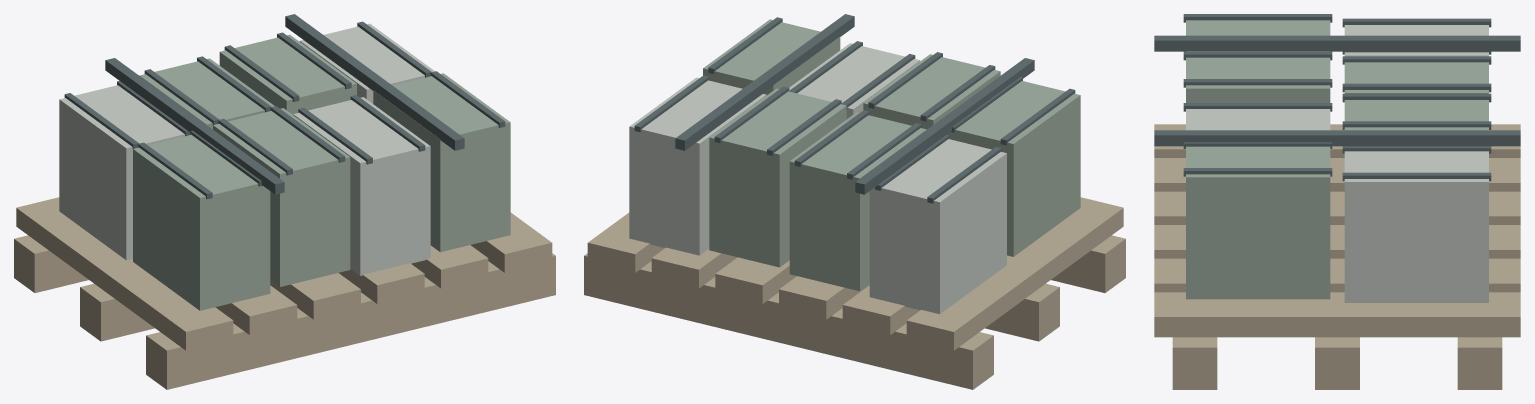
Rendered from DF210_Pallet_BundledCargo.glb.
The picture shows the model from 3 angles, left to right: view 1: azimuth 30°, elevation 25°; view 2: azimuth 150°, elevation 25°; view 3: azimuth 270°, elevation 25°; orthographic projection. The views are drawn at different scales.
Parts seen in each view (by area): view 1: Bale_4, Runner_0.7, Bale_5, Bale_6, Bale_7, Bale_0, TopDeck_0, Bale_2, Bale_1, TopTension_0.55, TopTension_-0.55, Bale_3 (+19 smaller); view 2: Bale_0, Runner_-0.7, Bale_2, Bale_1, Bale_4, Bale_3, TopDeck_0, Bale_5, Bale_7, Bale_6, TopTension_0.55, TopTension_-0.55 (+20 smaller); view 3: Bale_7, Bale_3, TopDeck_5, TopTension_-0.55, Bale_5, TopTension_0.55, Bale_1, Bale_2, Bale_6, TopDeck_4, TopDeck_2, TopDeck_3 (+20 smaller).
Boxes of the visible parts, box(x1,y1,x2,y2) form: Bale_4: box(133, 134, 270, 310); Runner_0.7: box(146, 253, 555, 389); Bale_5: box(213, 108, 350, 286); Bale_6: box(293, 97, 430, 275); Bale_7: box(373, 73, 510, 252); Bale_0: box(59, 85, 184, 260); TopDeck_0: box(16, 197, 233, 350); Bale_2: box(219, 34, 356, 114); Bale_1: box(139, 58, 274, 129); TopTension_0.55: box(285, 14, 464, 150); TopTension_-0.55: box(105, 58, 284, 194); Bale_3: box(299, 23, 434, 103); Bale_0: box(869, 139, 1006, 314); Runner_-0.7: box(584, 253, 993, 389); Bale_2: box(709, 88, 846, 267); Bale_1: box(789, 112, 926, 291); Bale_4: box(947, 81, 1080, 256); Bale_3: box(629, 77, 766, 255); TopDeck_0: box(906, 197, 1123, 350); Bale_5: box(863, 54, 1000, 129); Bale_7: box(703, 19, 840, 95); Bale_6: box(789, 43, 920, 118); TopTension_0.55: box(675, 14, 854, 150); TopTension_-0.55: box(855, 58, 1034, 194); Bale_7: box(1186, 146, 1330, 299); Bale_3: box(1344, 151, 1488, 302); TopDeck_5: box(1154, 292, 1520, 337); TopTension_-0.55: box(1154, 35, 1520, 51); Bale_5: box(1186, 57, 1330, 102); TopTension_0.55: box(1154, 130, 1520, 146); Bale_1: box(1344, 56, 1488, 93); Bale_2: box(1344, 100, 1488, 130); Bale_6: box(1186, 109, 1330, 130); TopDeck_4: box(1154, 258, 1520, 292); TopDeck_2: box(1154, 191, 1520, 224); TopDeck_3: box(1154, 225, 1520, 258).
Bounding box in the file's own units: 2.38 × 1.1 × 1.8.
